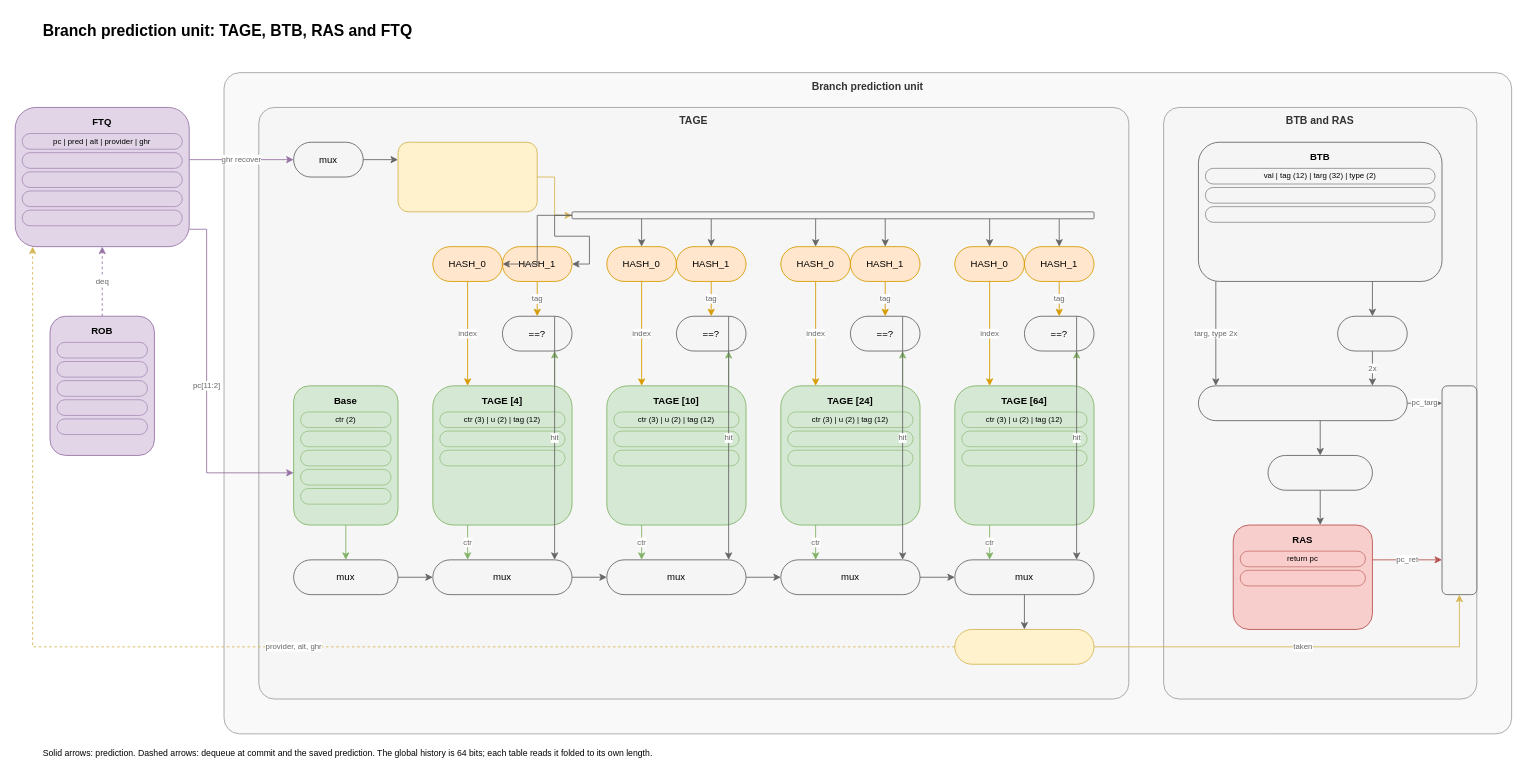
The diagram is 1536 pixels wide and 778 high, and some of its shapes have lost their labels. The shapes that lost their labels are listed below. From the top down, each one's centre as x and y in pixels, then its label:
the point at 467,176: GHR (64) speculative
the point at 1372,333: hit?
the point at 1302,403: priority select (lane 0)
the point at 1319,472: call / ret?
the point at 1459,490: pc_sel
the point at 1024,646: pred (2x)
